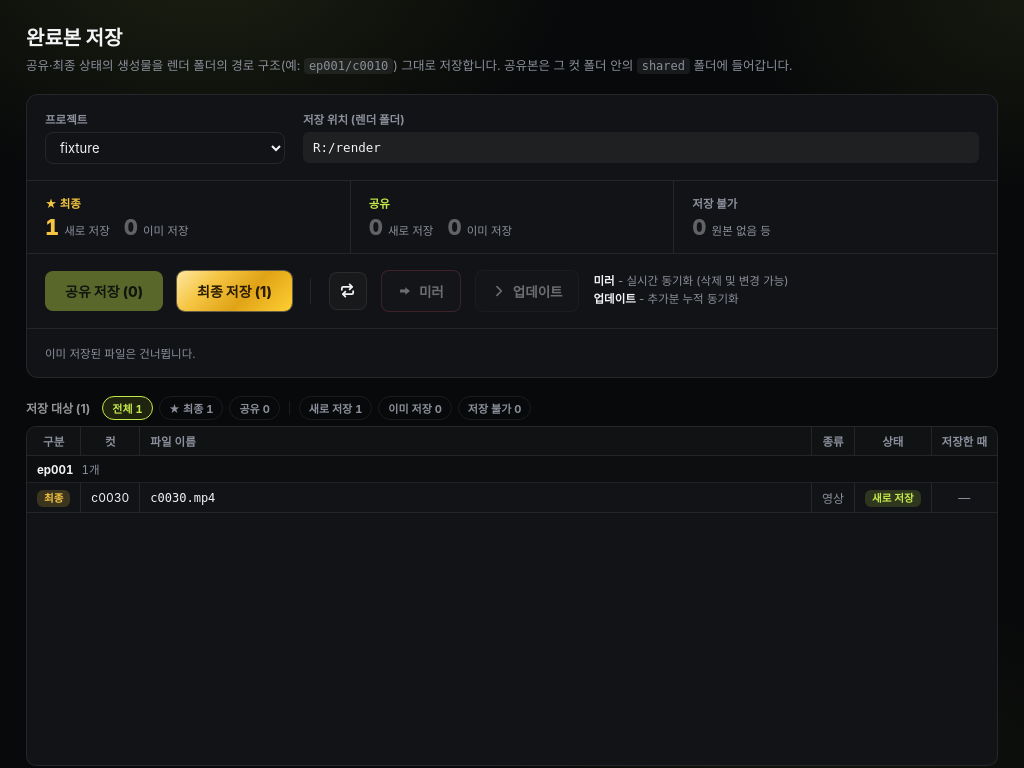
Test: 미러는 확인 창에서 본 목록을 그대로 보내고, 정리가 너무 많다는 답이 오면 한 번 더 묻는다
What coordinates should you click on to do the following:
click the button with class "export-icon-btn"
I would click on:
 (348, 291)
Its box is left=329, top=272, right=367, bottom=310.
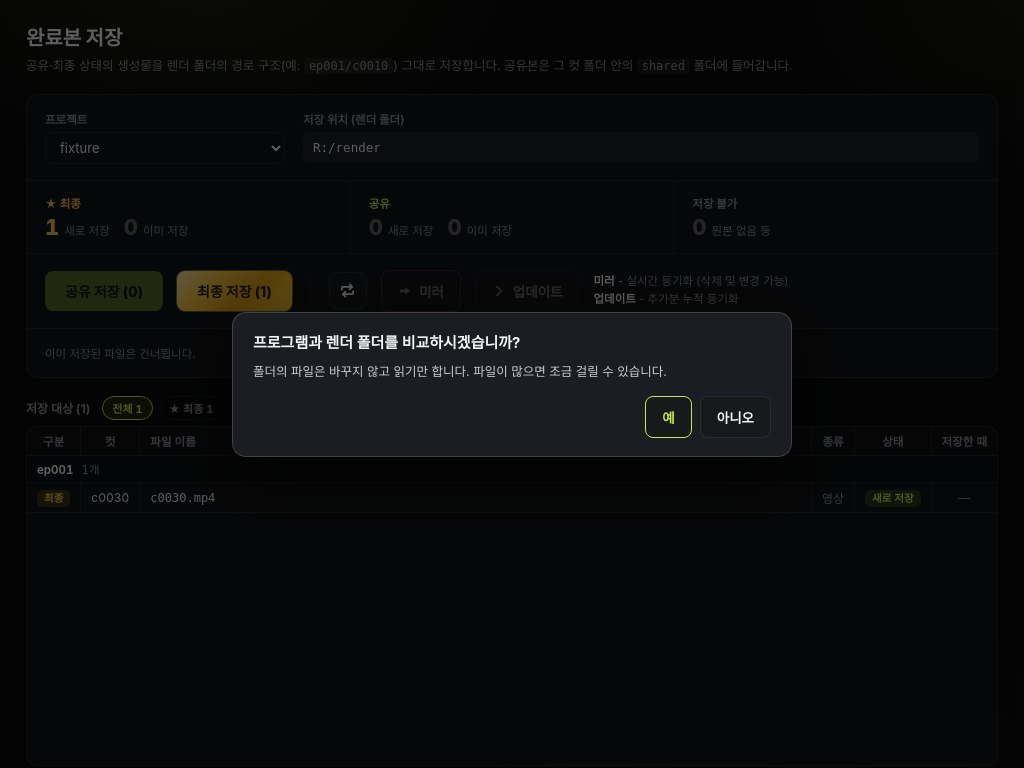
What coordinates should you click on to do the following:
click the button "예"
I would click on:
 (668, 416)
Its box is left=645, top=396, right=692, bottom=438.
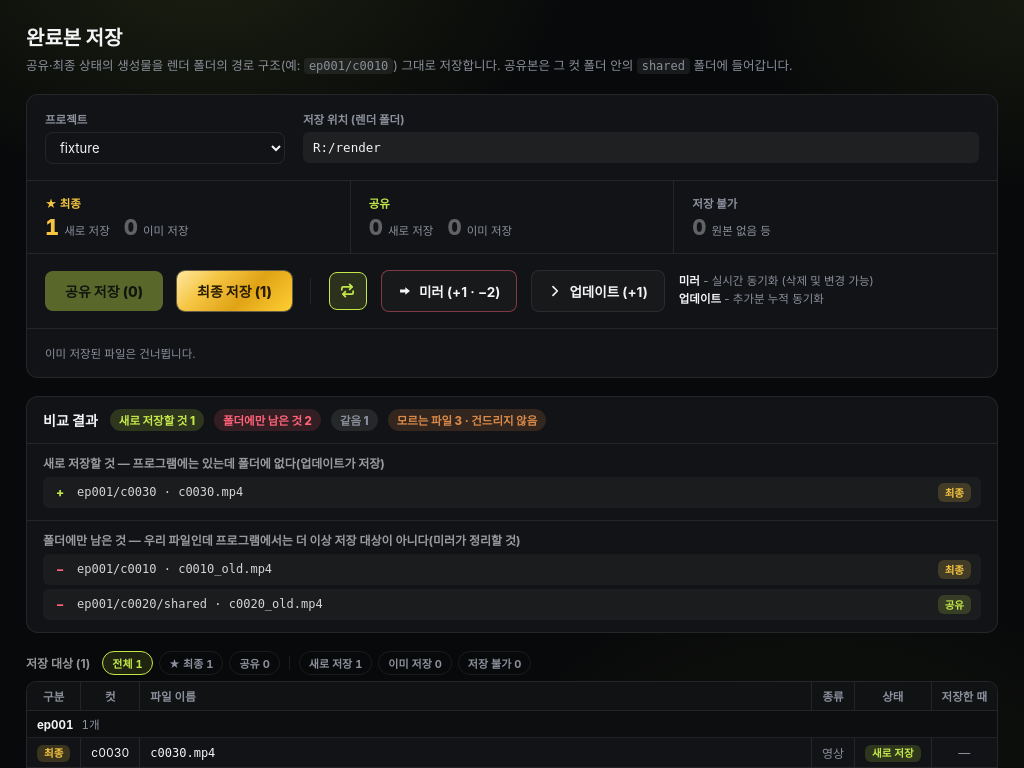
expect the dialog with class "export-modal" is gone: met
What coordinates should you click on to do the following:
click the button "미러 (+1 · −2)"
I would click on:
 (449, 291)
Its box is left=381, top=270, right=518, bottom=312.
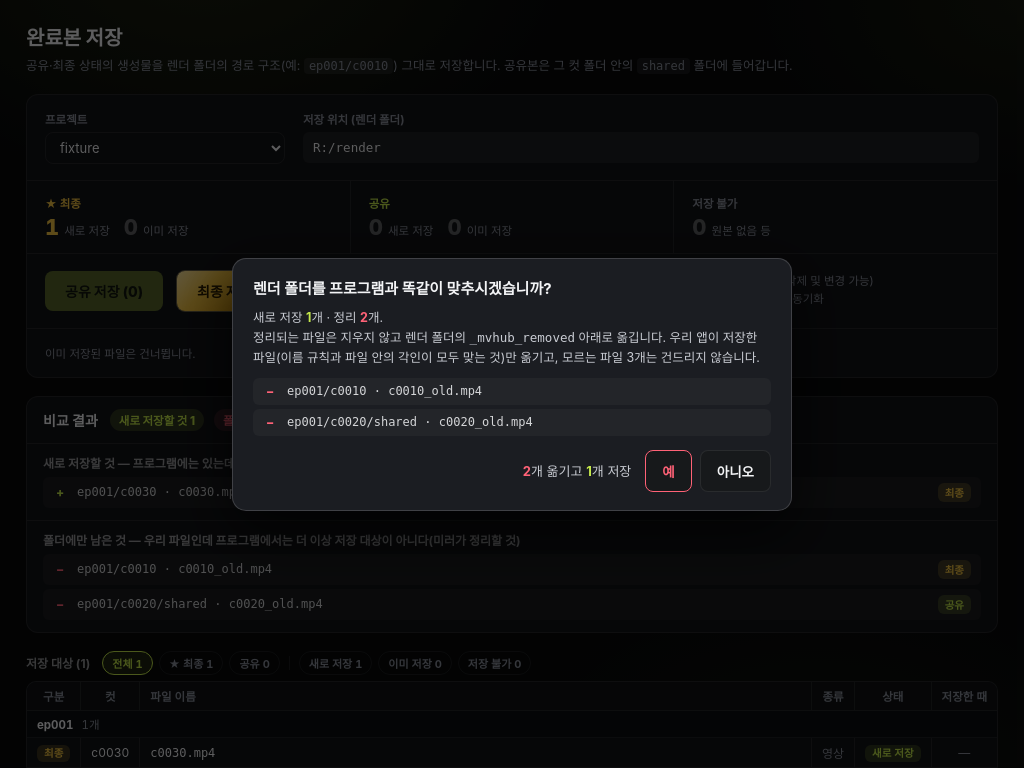
expect the dialog with class "export-modal" shows "지우지 않고": met, box left=253, top=330, right=470, bottom=344
expect the dialog with class "export-modal" shows "모르는 파일 3개는 건드리지 않습니다": met
expect the heading "렌더 폴더를 프로그램과 똑같이 맞추시겠습니까?" is shown: met, box left=253, top=278, right=552, bottom=298
What coordinates should you click on to do the following:
click the button "예"
I would click on:
 (668, 470)
Its box is left=645, top=450, right=692, bottom=492.
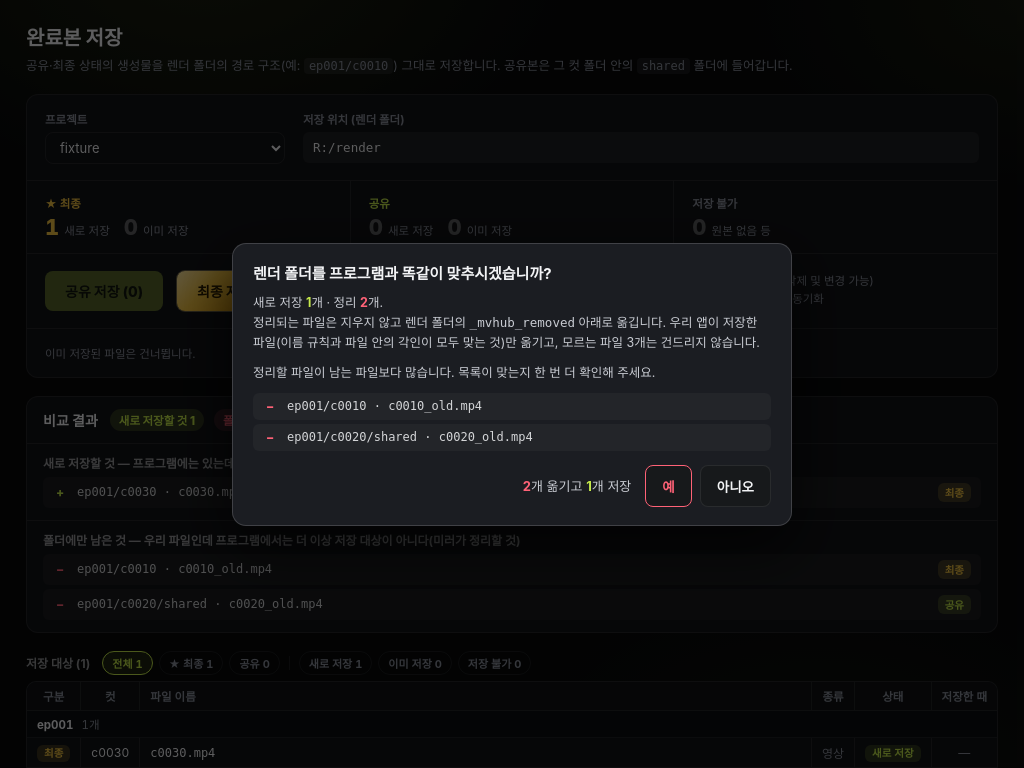
expect the dialog with class "export-modal" shows "정리할 파일이 남는 파일보다 많습니다": met, box left=253, top=364, right=655, bottom=380
What coordinates should you click on to do the following:
click the button "예"
I would click on:
 (668, 486)
Its box is left=645, top=464, right=692, bottom=506.
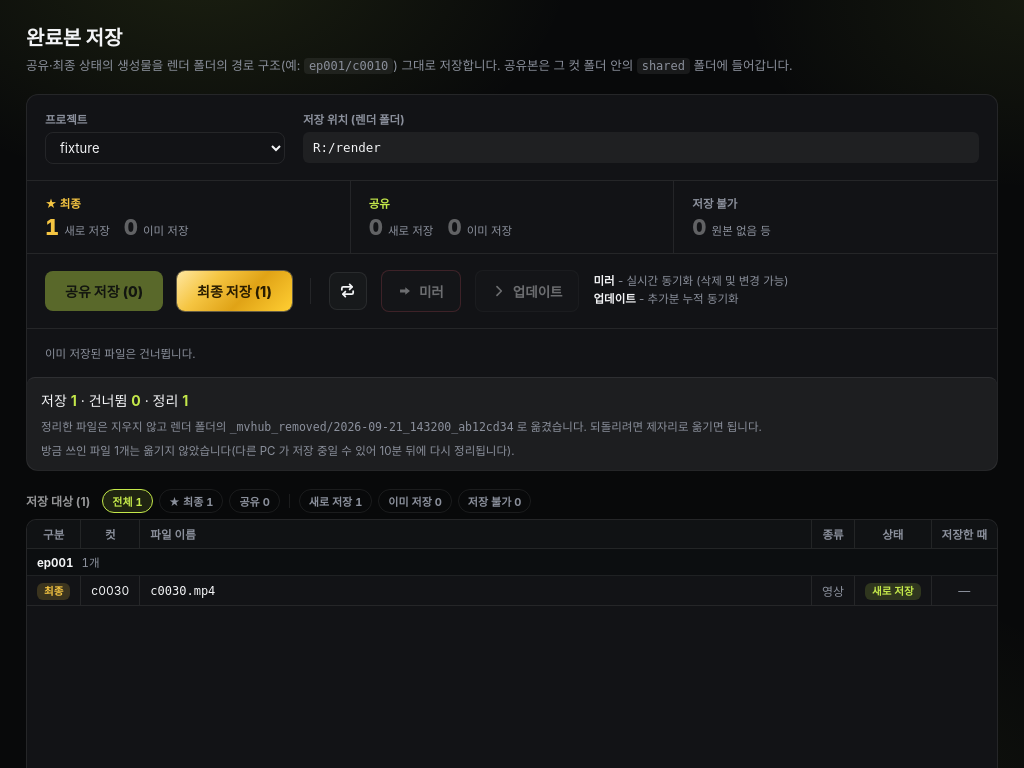
expect the dialog with class "export-modal" is gone: met
expect the element with class "export-result" shows "정리 1": met, box left=27, top=377, right=997, bottom=470
expect the element with class "export-result" shows "_mvhub_removed/2026-09-21_143200_ab12cd34": met, box left=230, top=420, right=514, bottom=434
